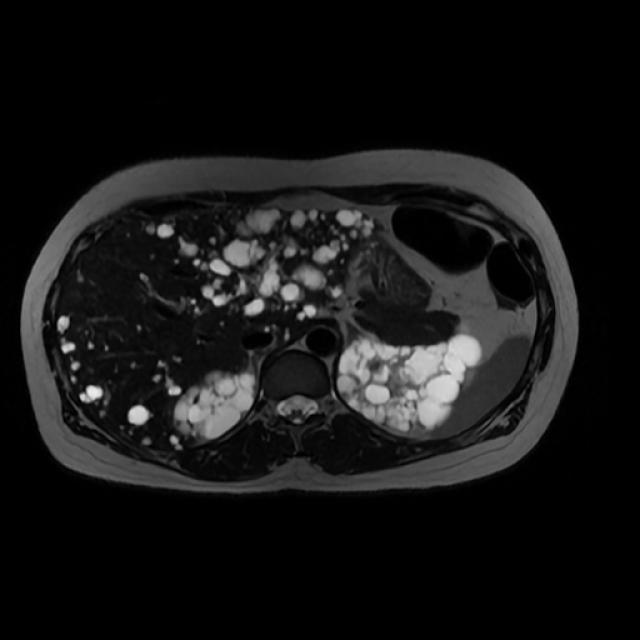sag: (172, 370, 257, 442)
sol: (334, 331, 485, 436)
